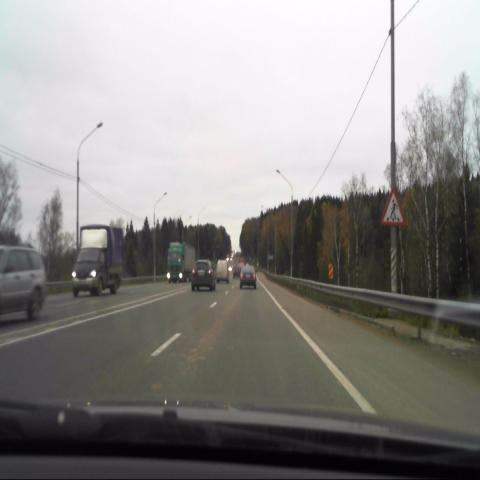1_22: (382, 187, 406, 228)
